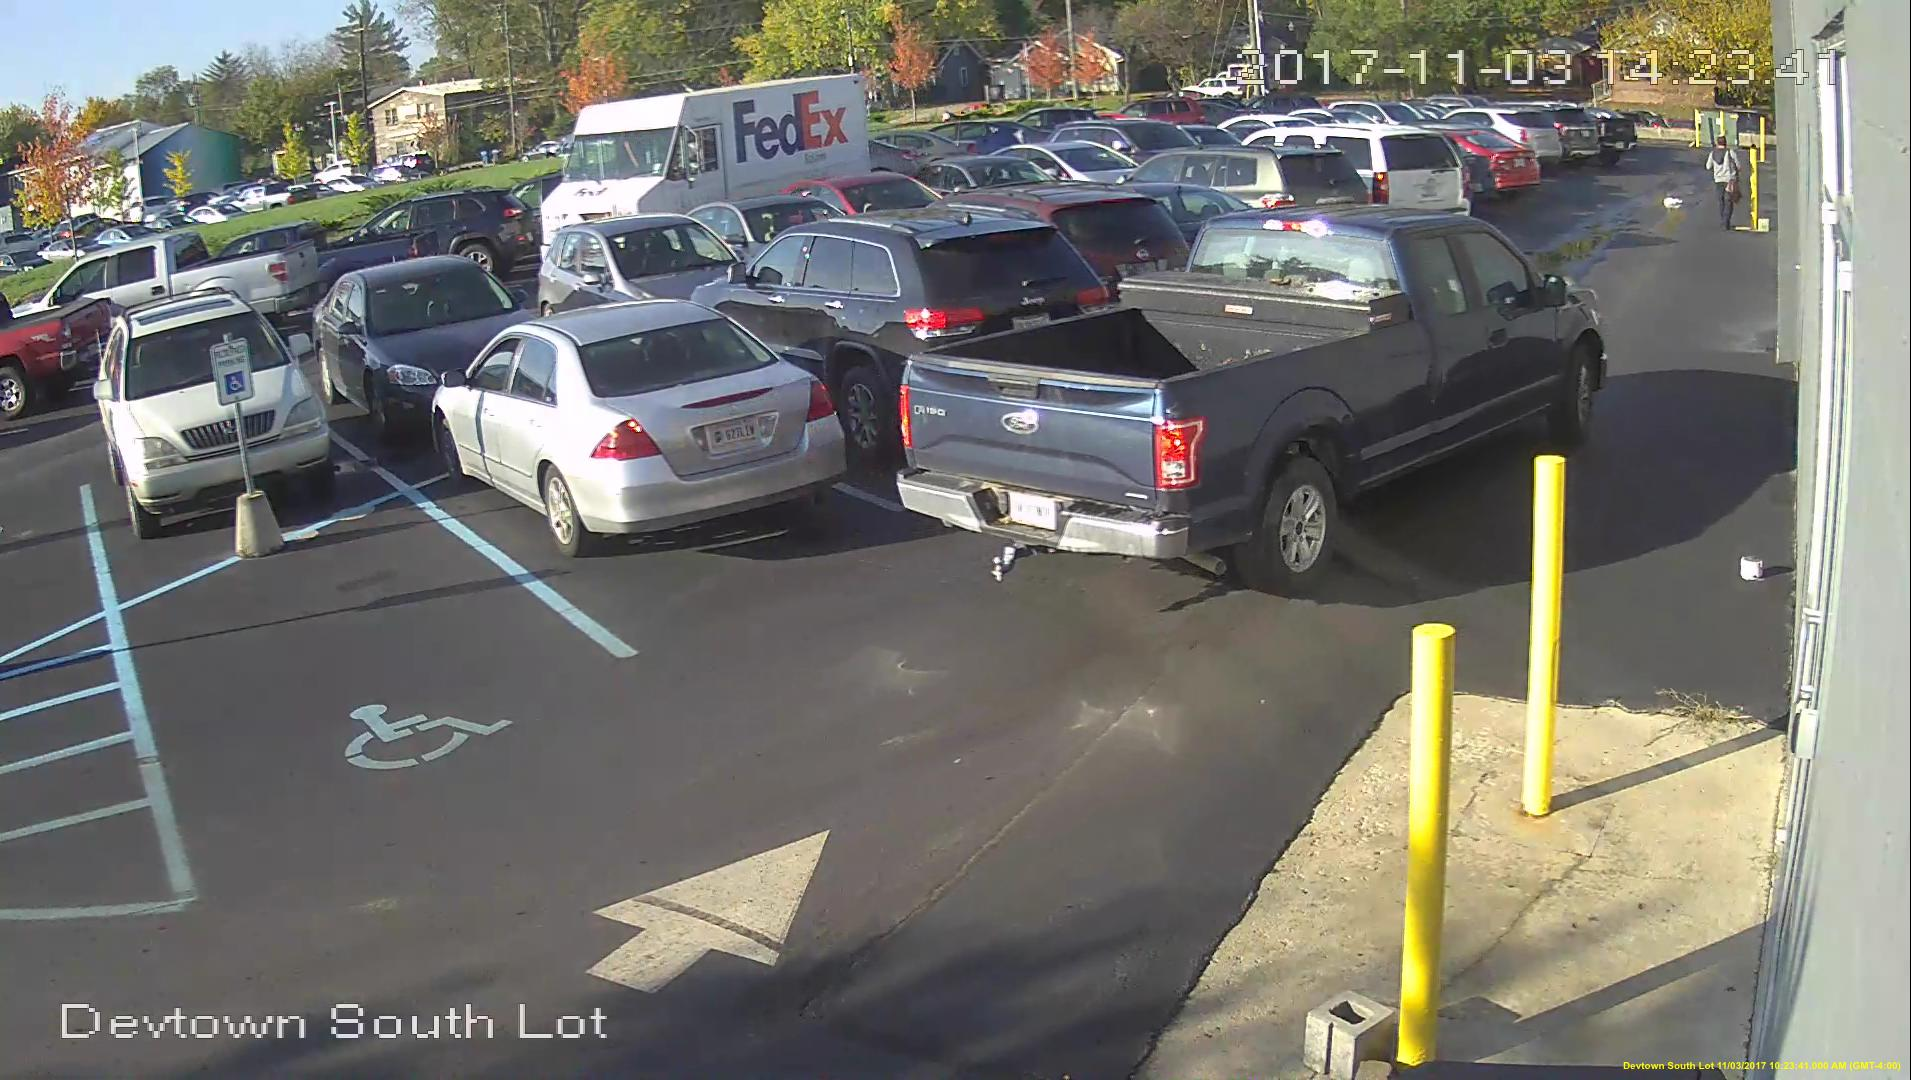fedex_truck: (535, 71, 878, 253)
